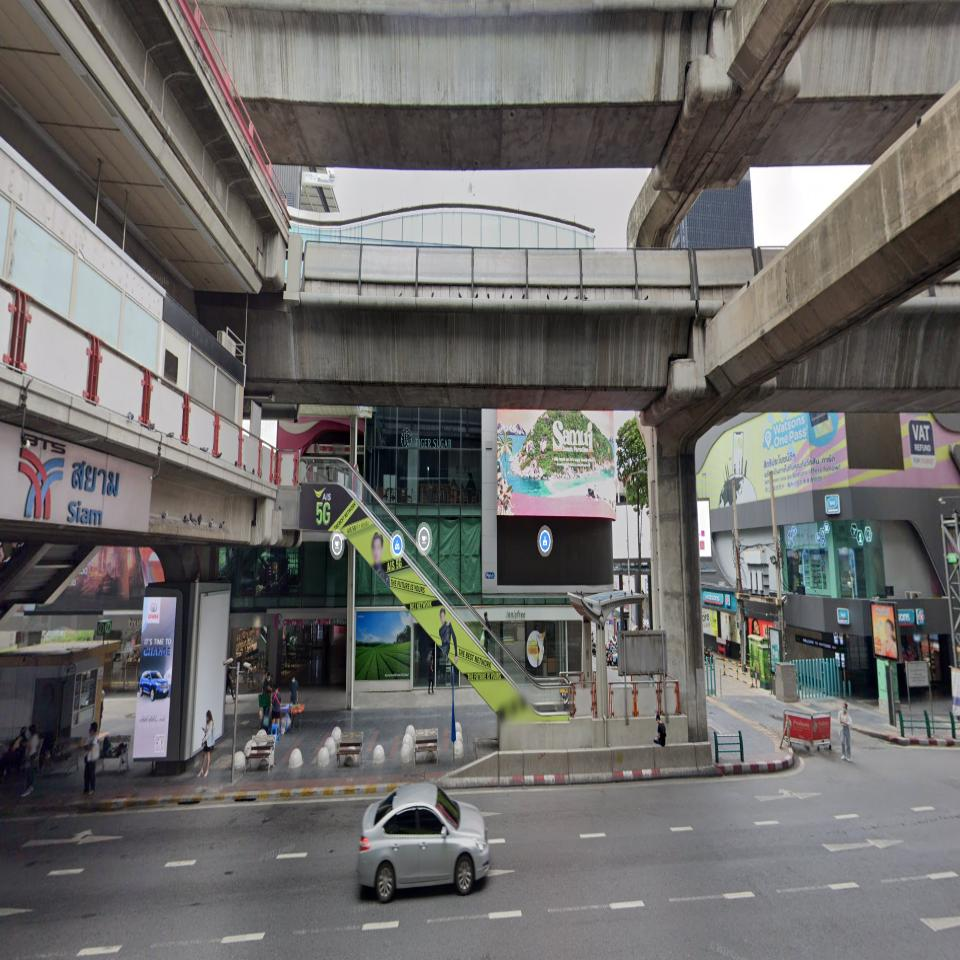signage: (17, 432, 122, 527), (67, 458, 122, 527)
